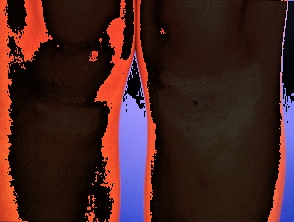vitiligo: (150, 52, 276, 185), (14, 58, 129, 171)
